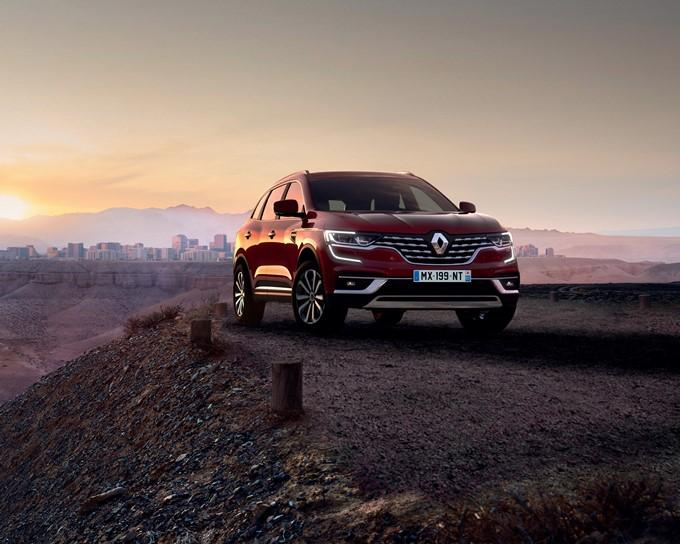Renault: (426, 228, 454, 264)
